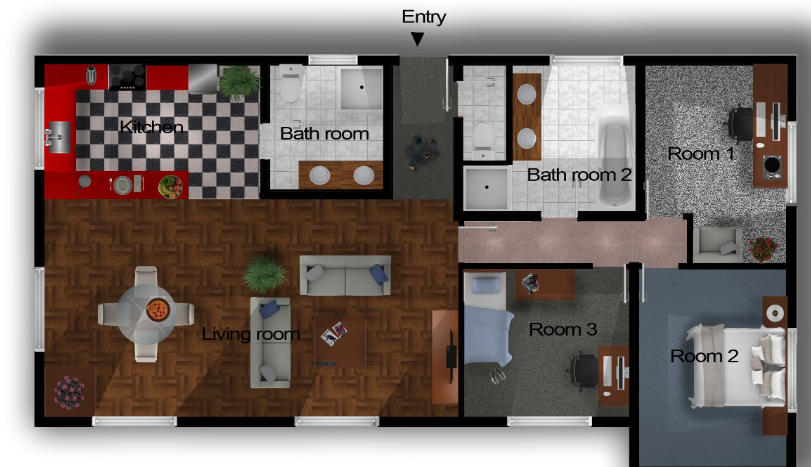room: (628, 260, 797, 466), (35, 56, 270, 200), (455, 55, 645, 221), (455, 262, 637, 427), (635, 54, 798, 220), (261, 54, 394, 199)
